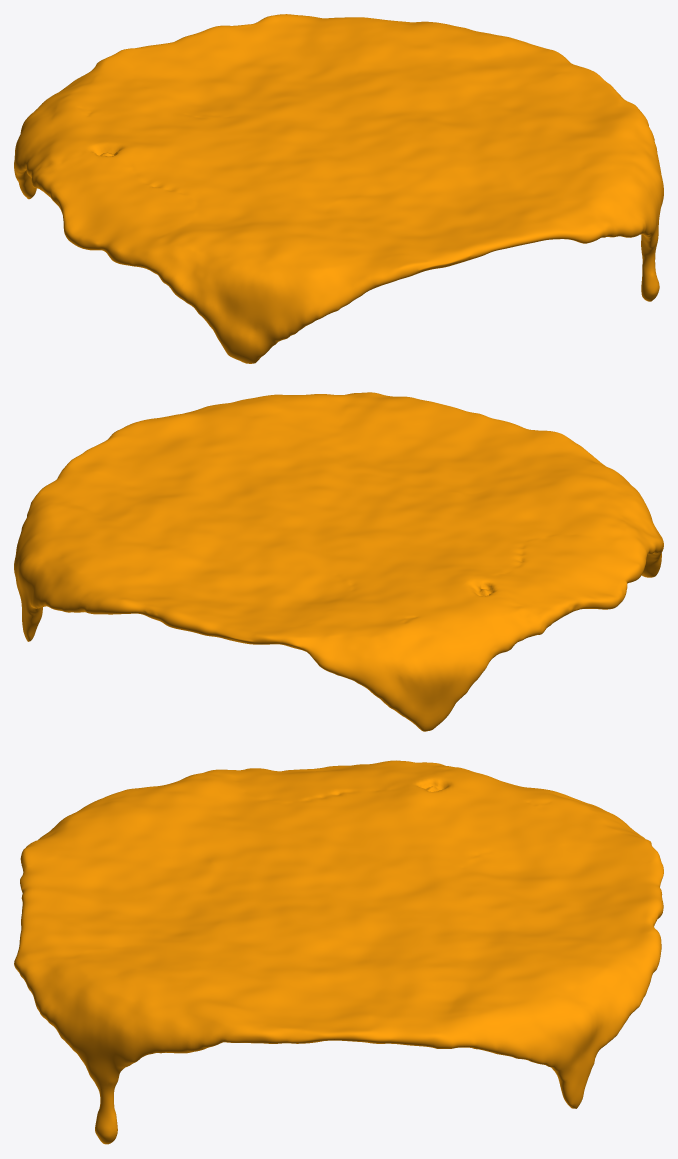
Rendered from Cheese.fbx.
3 renders of one model, top to bottom at view 1: azimuth 30°, elevation 25°; view 2: azimuth 150°, elevation 25°; view 3: azimuth 270°, elevation 25°, orthographic. The views are drawn at different scales.
Visible parts, largest first — view 1: Cheese; view 2: Cheese; view 3: Cheese.
Part boxes in pixels (box(x1,y1,x2,y2)): Cheese: box(14, 14, 663, 363); Cheese: box(14, 392, 663, 731); Cheese: box(14, 760, 663, 1144).
Bounding box in the file's own units: 11.05 × 2.72 × 10.51.
